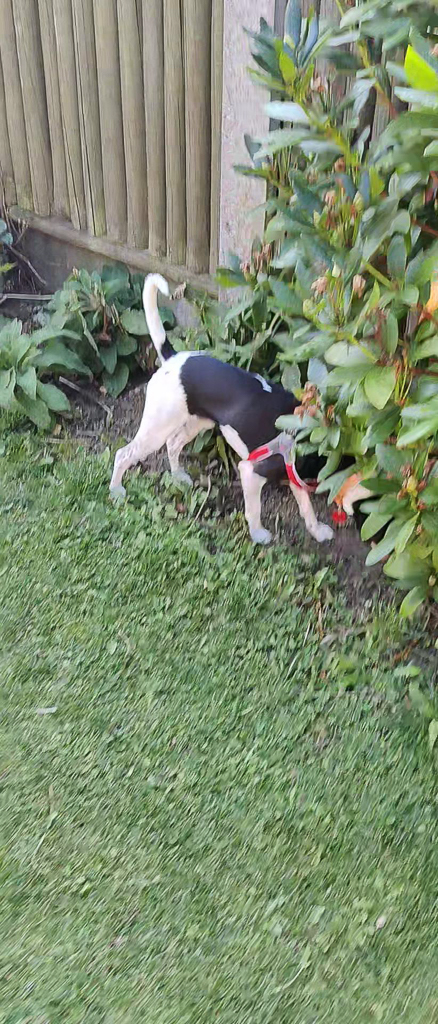Dog: (91, 261, 417, 578)
